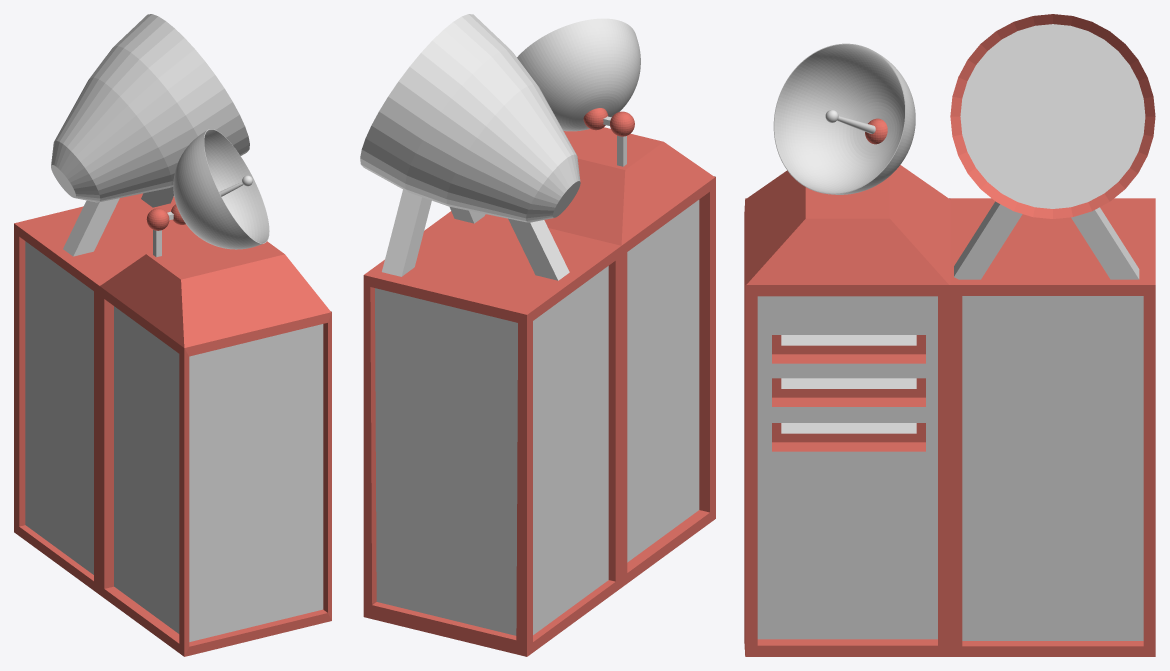
File: NAVCOM_Terminal.fbx
3 renders of one model, left to right at view 1: azimuth 30°, elevation 25°; view 2: azimuth 150°, elevation 25°; view 3: azimuth 270°, elevation 25°, orthographic. The views are drawn at different scales.
Visible parts, largest first — view 1: Cube, Cylinder, Sphere, Cube.004, Cube.003; view 2: Cube, Cylinder, Sphere, Cube.003, Cube.004; view 3: Cube, Cylinder, Sphere, Cube.002, Cube.003.
Part boxes in pixels (x1,y1,x2,y2): Cube: (14,193,331,656); Cylinder: (51,14,249,202); Sphere: (173,129,269,249); Cube.004: (63,198,119,256); Cube.003: (141,187,173,207); Cube: (363,127,715,656); Cylinder: (360,14,580,222); Sphere: (517,18,640,131); Cube.003: (382,189,431,276); Cube.004: (508,218,569,280); Cube: (744,165,1155,656); Cylinder: (950,14,1155,218); Sphere: (773,43,915,194); Cube.002: (954,201,1022,279); Cube.003: (1071,207,1139,279).
Bounding box in the file's own units: 234 × 668 × 401.
